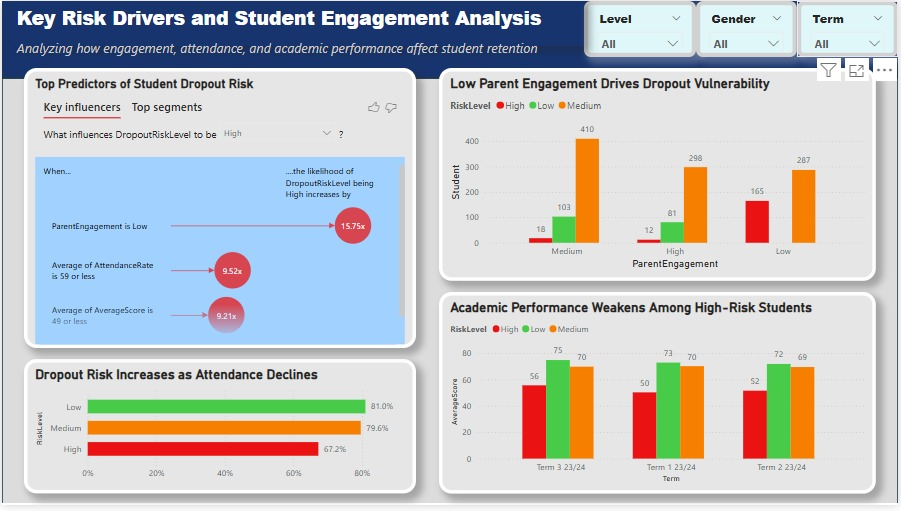

The page's visual inventory and layout, read from the dashboard file:
{"tool":"powerbi","page":{"name":"Key_Influencer","canvas":[1280,720],"ordinal":1},"visuals":[{"type":"clusteredColumnChart","title":"Low Parent Engagement Drives Dropout Vulnerability","fields":{"Category":["vw_DropoutRisk.ParentEngagement"],"Series":["vw_DropoutRisk.DropoutRiskLevel"],"Y":["Count(vw_DropoutRisk.StudentID)"]},"box":[624,96,624,304],"z":0},{"type":"clusteredColumnChart","title":"Academic Performance Weakens Among High-Risk Students","fields":{"Category":["vw_DropoutRisk.Term"],"Y":["Avg(vw_DropoutRisk.AverageScore)"],"Series":["vw_DropoutRisk.DropoutRiskLevel"]},"box":[624,416,624,288],"z":1000},{"type":"barChart","title":"Dropout Risk Increases as Attendance Declines","fields":{"Y":["vw_DropoutRisk.%averageattendance"],"Category":["vw_DropoutRisk.DropoutRiskLevel"]},"box":[32,512,560,192],"z":2000},{"type":"keyDriversVisual","title":"Top Predictors of Student Dropout Risk","fields":{"Target":["vw_DropoutRisk.DropoutRiskLevel"],"ExplainBy":["Avg(vw_DropoutRisk.AttendanceRate)","Sum(vw_DropoutRisk.BehaviorScore)","Avg(vw_DropoutRisk.AverageScore)","vw_DropoutRisk.ParentEngagement","vw_DropoutRisk.ClassLevel"]},"box":[32,96,560,400],"z":3000},{"type":"slicer","fields":{"Values":["vw_DropoutRisk.ClassLevel"]},"box":[832,0,160,80],"z":4000},{"type":"slicer","fields":{"Values":["vw_DropoutRisk.Gender"]},"box":[992,0,144,80],"z":5000},{"type":"slicer","fields":{"Values":["vw_DropoutRisk.Term"]},"box":[1136,0,144,80],"z":6000},{"type":"textbox","box":[16,0,816,64],"z":7000},{"type":"textbox","box":[16,48,800,48],"z":8000}]}

Visuals, with their boxes in screenshot pixels (x1, y1, x2, y2), scaled from the page's 1280x720 canvas onto the 901x511 screenshot:
"Low Parent Engagement Drives Dropout Vulnerability" clusteredColumnChart: box=[439, 68, 878, 284]
"Academic Performance Weakens Among High-Risk Students" clusteredColumnChart: box=[439, 295, 878, 500]
"Dropout Risk Increases as Attendance Declines" barChart: box=[23, 363, 417, 500]
"Top Predictors of Student Dropout Risk" keyDriversVisual: box=[23, 68, 417, 352]
slicer - vw_DropoutRisk.ClassLevel: box=[586, 0, 698, 57]
slicer - vw_DropoutRisk.Gender: box=[698, 0, 800, 57]
slicer - vw_DropoutRisk.Term: box=[800, 0, 900, 57]
textbox: box=[11, 0, 586, 45]
textbox: box=[11, 34, 574, 68]
